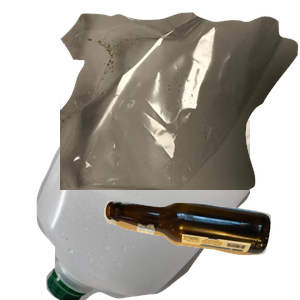glass: (101, 198, 300, 300)
metal: (73, 52, 263, 232)
plastic: (34, 120, 274, 300)
trash: (60, 10, 300, 190)
